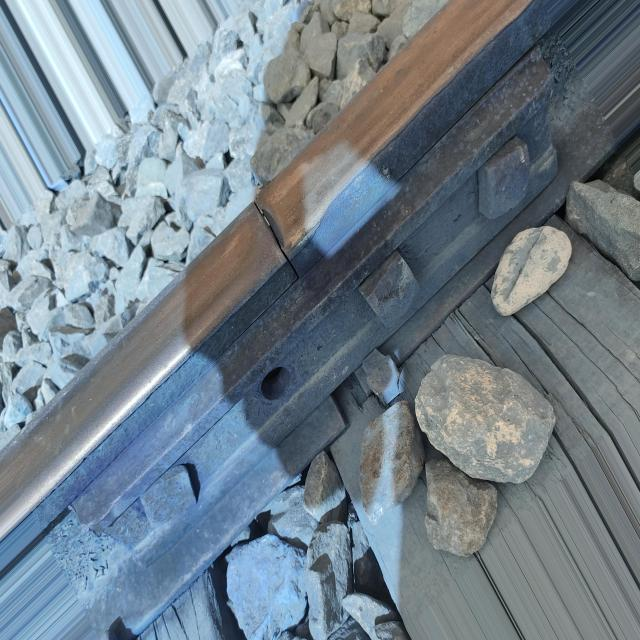Defective Joint: (70, 44, 559, 569)
Good Fasteners: (362, 349, 404, 406)
